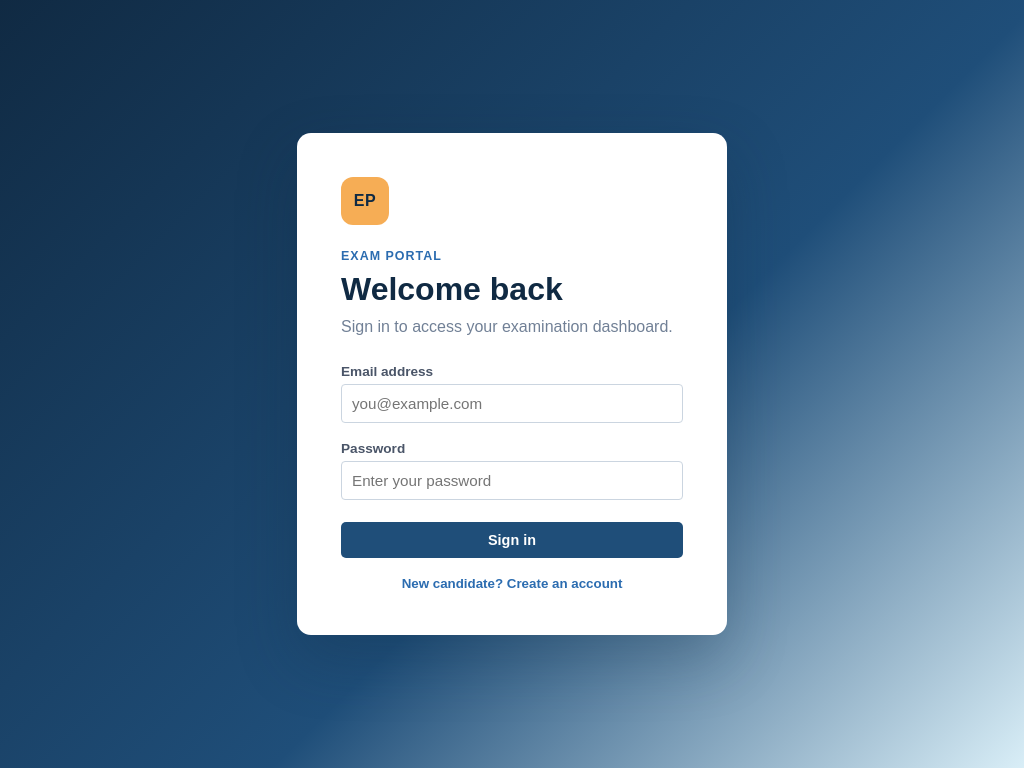
Scenario: renders the login screen and opens the candidate screen
Expected: the heading "Welcome back" is shown, [341,271,563,307]
Type "candidate@example.com" into the field labelled "Email address" at [512, 404], box [341,384,683,423]
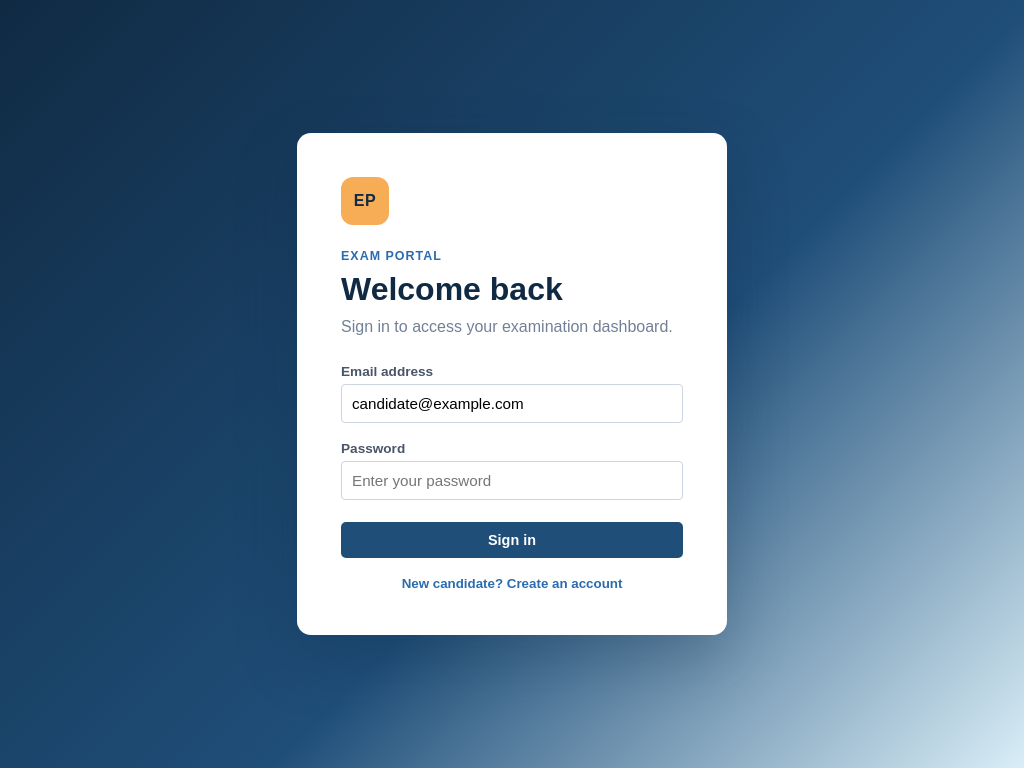
Type "password" into the password field labelled "Password" at [512, 480], box [341,461,683,500]
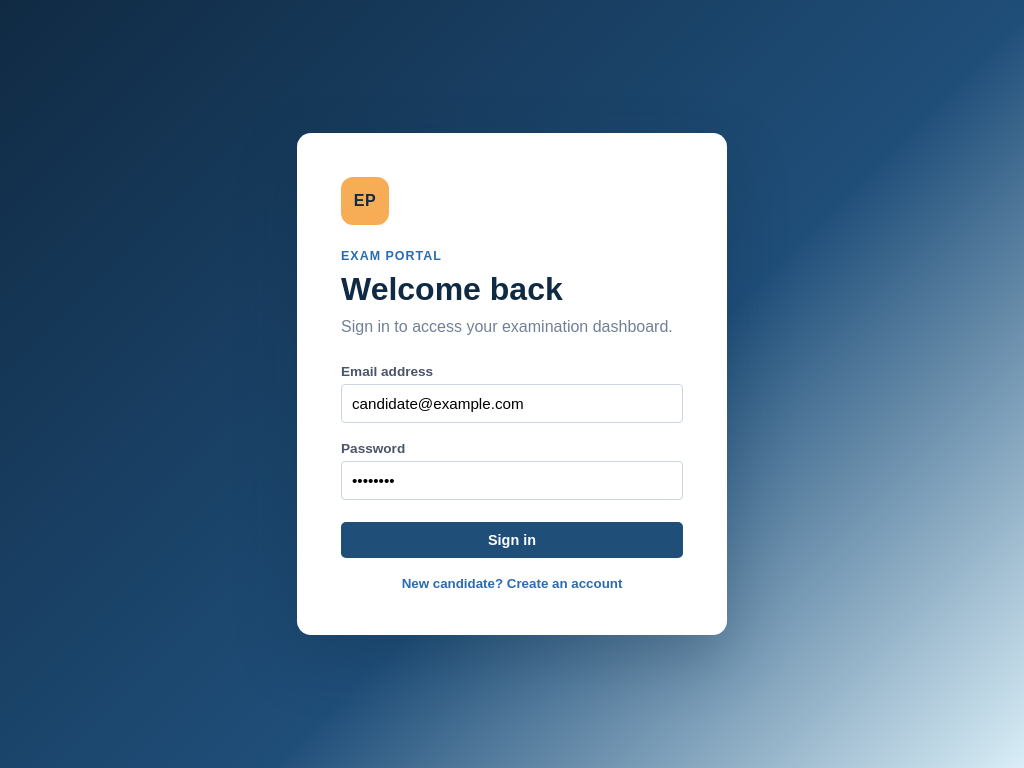
Click the button "Sign in" at [512, 540], box [341,522,683,558]
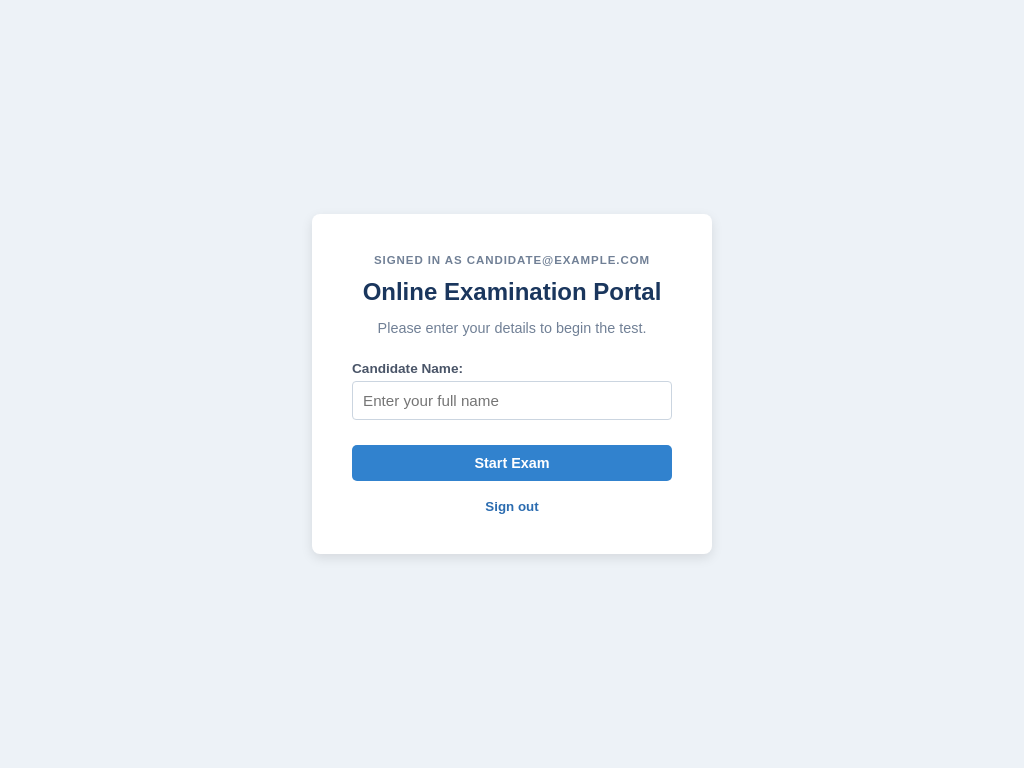
Now the heading "Online Examination Portal" is shown, box [352,278,672,306]
Now the text "Signed in as candidate@example.com" is shown, box [352,254,672,266]
